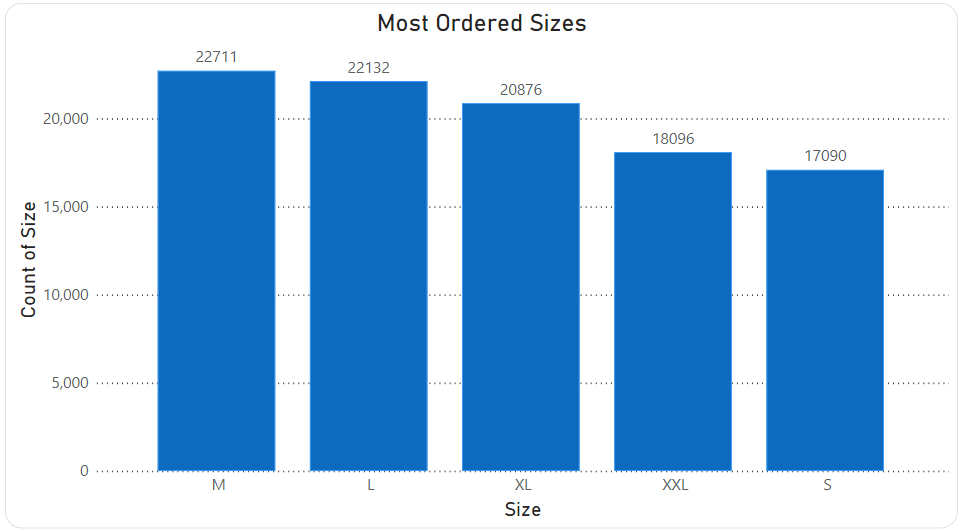

What the dashboard file says about the page in this screenshot:
{"tool":"powerbi","page":{"name":"MostOrderedSize","canvas":[1280,720],"ordinal":0},"visuals":[{"type":"columnChart","title":"Most Ordered Sizes","fields":{"Category":["Amazon Sale Report [Cleaned].Size"],"Y":["CountNonNull(Amazon Sale Report [Cleaned].Size)"]},"box":[43.5,47.2,1133.9,625.5],"z":0}]}

Visuals, with their boxes in screenshot pixels (x1, y1, x2, y2), scaled from the page's 1280x720 canvas onto the 964x531 screenshot:
"Most Ordered Sizes" columnChart: {"x1": 33, "y1": 35, "x2": 887, "y2": 496}
